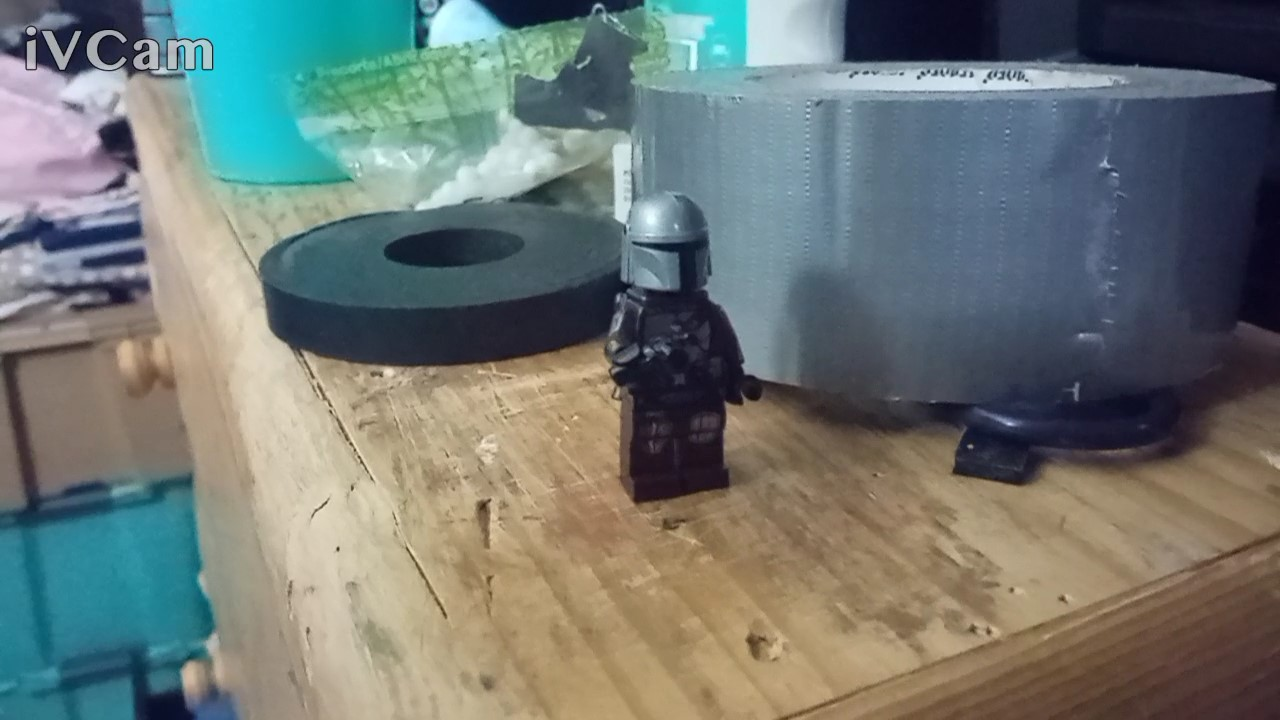mandalorian: (580, 182, 794, 505)
